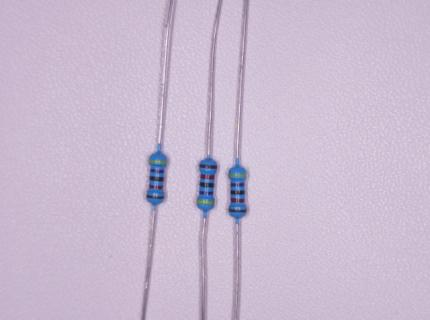Black band: (200, 182, 214, 188), (149, 177, 164, 182), (231, 191, 244, 195)
Brown band: (200, 164, 217, 169), (147, 195, 165, 199), (229, 209, 246, 212)
Red band: (200, 175, 215, 180), (149, 185, 163, 190), (231, 199, 245, 203)
Violet band: (151, 169, 164, 173), (231, 183, 244, 187), (200, 192, 213, 195)
Yellow band: (149, 160, 167, 164), (197, 200, 215, 204), (229, 174, 246, 177)
